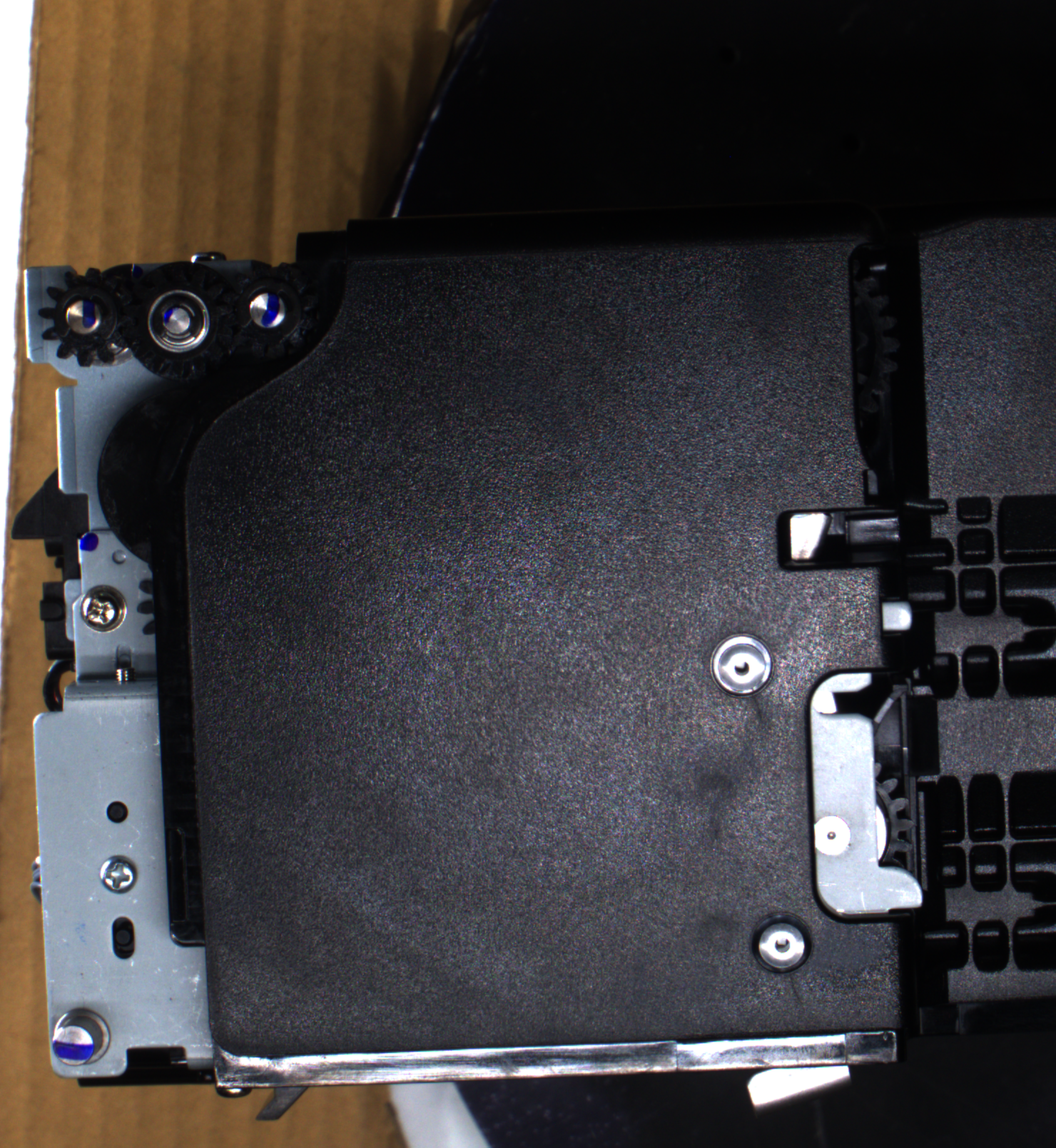centre_pin_presence: (742, 1048, 857, 1113)
centre_plate_presence: (802, 662, 933, 929)
centre_screw_presence: (706, 627, 780, 704), (745, 905, 816, 980)
gear1_presence: (37, 265, 137, 369)
gear2_presence: (121, 260, 236, 381)
gear3_presence: (218, 260, 317, 359)
side_screw_presence: (74, 582, 129, 633), (96, 855, 141, 895)
slanting_pin_presence: (46, 1004, 120, 1075)
